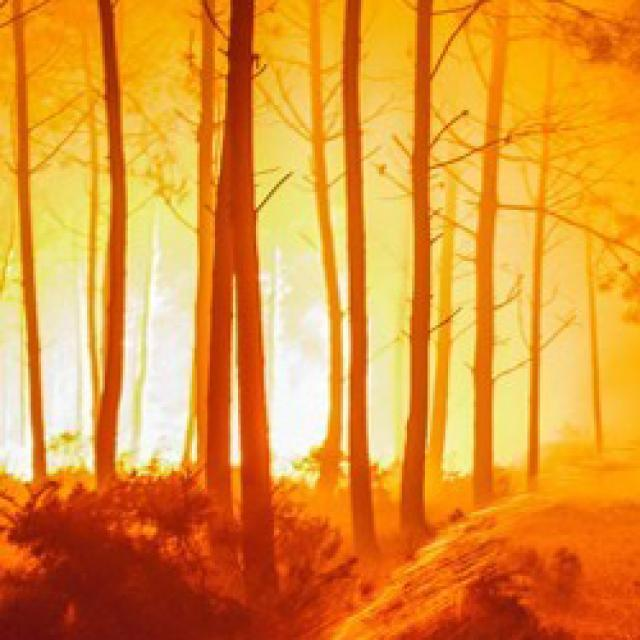Fire: (0, 202, 436, 498), (286, 445, 640, 640)
Smoke: (0, 0, 640, 306)
